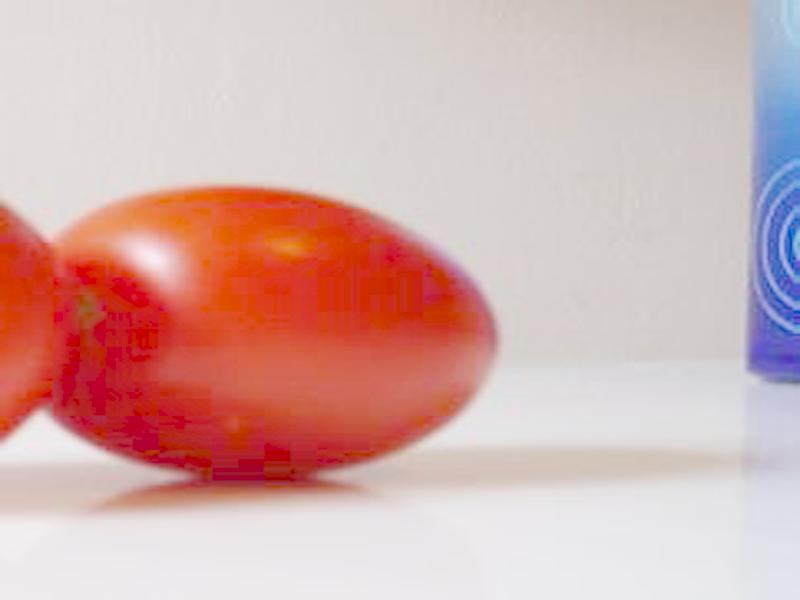Tomato: (50, 186, 496, 481)
